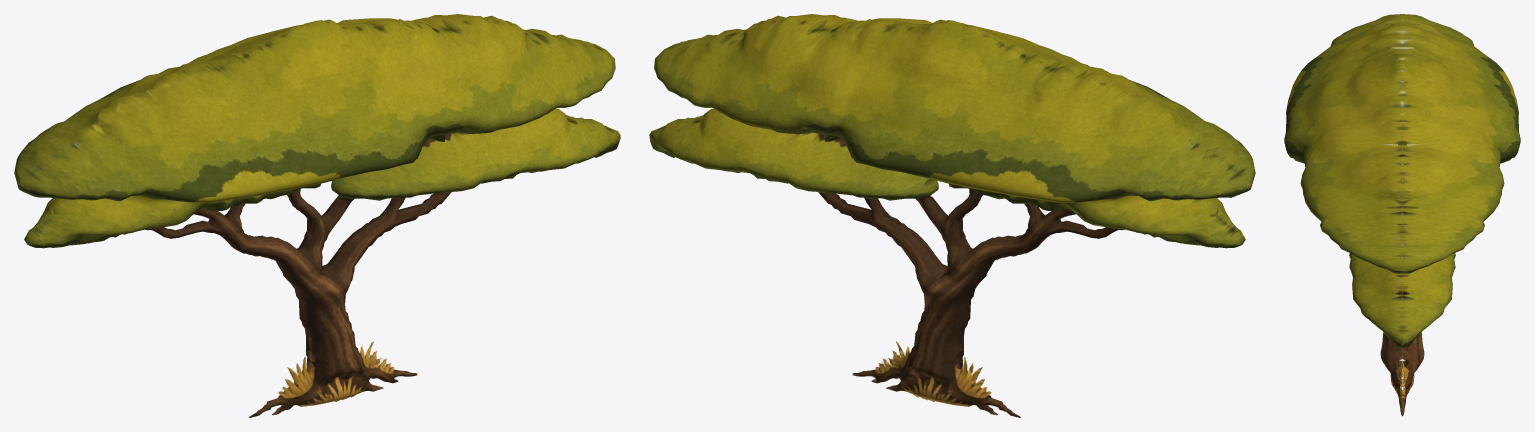
File: layers_props_11_tree_acacia_big.glb
3 renders of one model, left to right at view 1: azimuth 30°, elevation 25°; view 2: azimuth 150°, elevation 25°; view 3: azimuth 270°, elevation 25°, orthographic. The views are drawn at different scales.
Visible parts, largest first — view 1: layers_props_11_tree_acacia_big; view 2: layers_props_11_tree_acacia_big; view 3: layers_props_11_tree_acacia_big.
Part boxes in pixels (x1=…): layers_props_11_tree_acacia_big: x1=14, y1=14, x2=620, y2=417; layers_props_11_tree_acacia_big: x1=649, y1=14, x2=1255, y2=417; layers_props_11_tree_acacia_big: x1=1284, y1=14, x2=1520, y2=416.
Bounding box in the file's own units: 14.92 × 9.11 × 6.13.
1 material, 1 textured.
